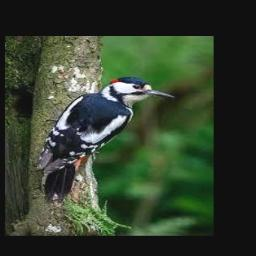Woodpecker: (37, 76, 174, 204)
